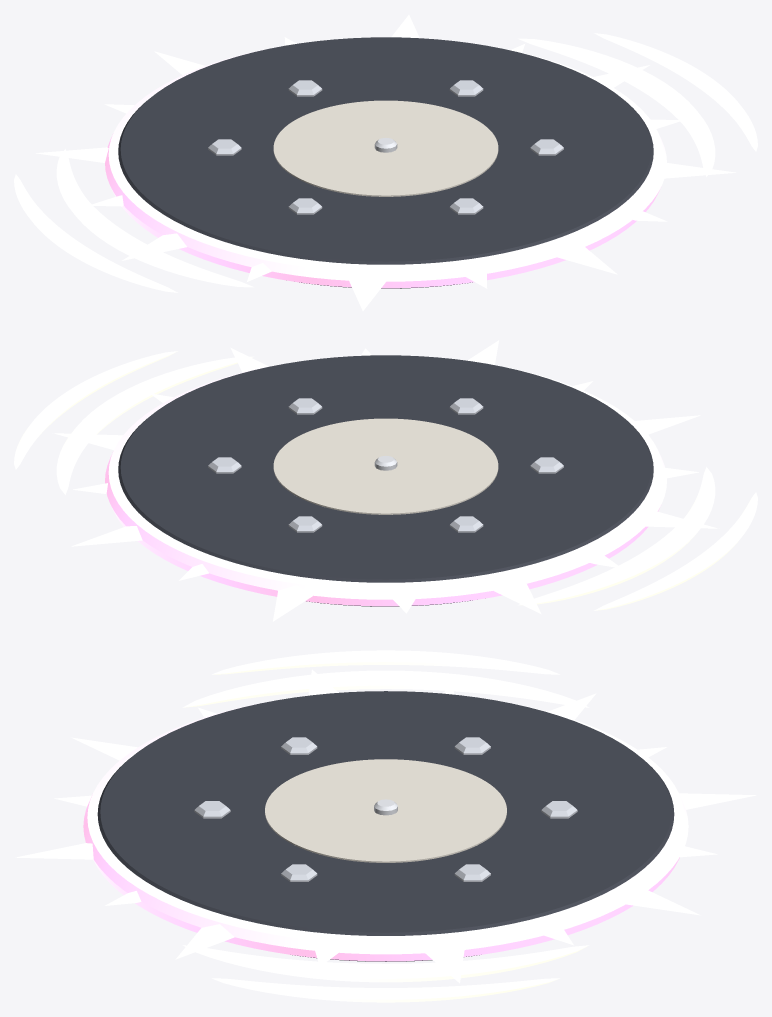
Rendered from records.glb.
The picture shows the model from 3 angles, top to bottom: view 1: azimuth 30°, elevation 25°; view 2: azimuth 150°, elevation 25°; view 3: azimuth 270°, elevation 25°; orthographic projection. The views are drawn at different scales.
Parts seen in each view (by area): view 1: Record_Body, Record_Wings, Record_Spikes; view 2: Record_Body, Record_Wings, Record_Spikes; view 3: Record_Body, Record_Wings, Record_Spikes.
Part boxes in pixels (x1=…): Record_Body: x1=105, y1=37, x2=666, y2=288; Record_Wings: x1=14, y1=33, x2=757, y2=292; Record_Spikes: x1=36, y1=15, x2=735, y2=310; Record_Body: x1=105, y1=355, x2=666, y2=606; Record_Wings: x1=14, y1=351, x2=757, y2=610; Record_Spikes: x1=52, y1=340, x2=719, y2=621; Record_Body: x1=83, y1=691, x2=688, y2=961; Record_Wings: x1=182, y1=650, x2=589, y2=1002; Record_Spikes: x1=15, y1=669, x2=756, y2=983.
Size of the model in its own units: 2.03 by 0.124 by 1.84.
